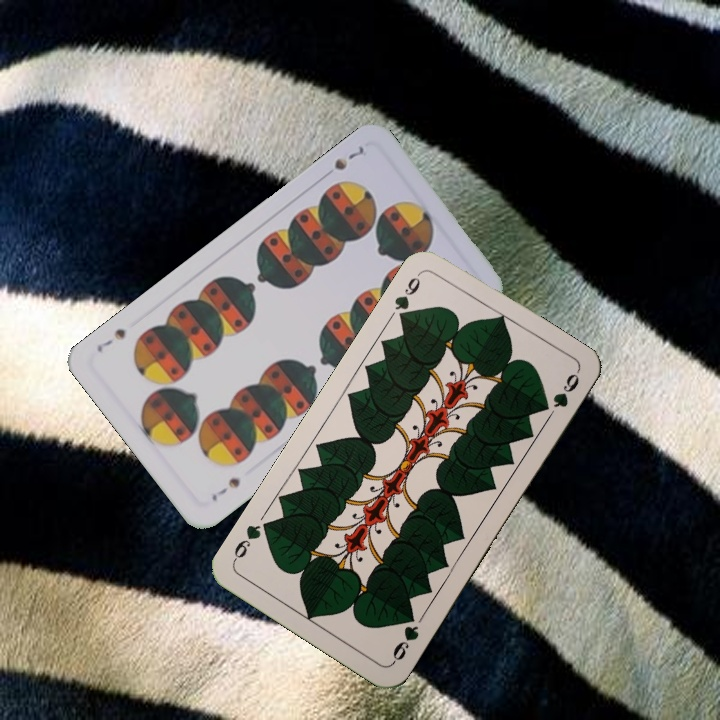G9: (390, 268, 425, 326), (388, 608, 422, 666)
S7: (330, 142, 370, 173), (207, 473, 243, 505)
